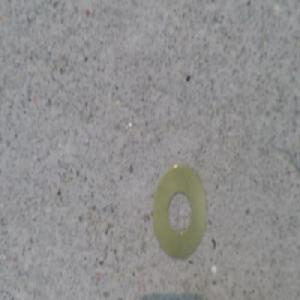Washer: (152, 157, 208, 255)
